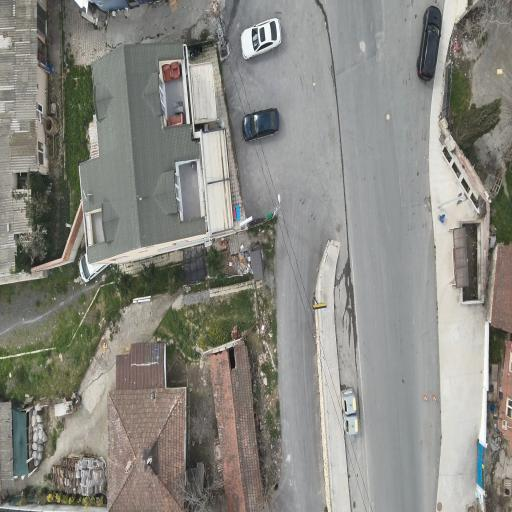car: (417, 6, 441, 80), (241, 19, 281, 59), (243, 109, 279, 140), (79, 253, 108, 282)
